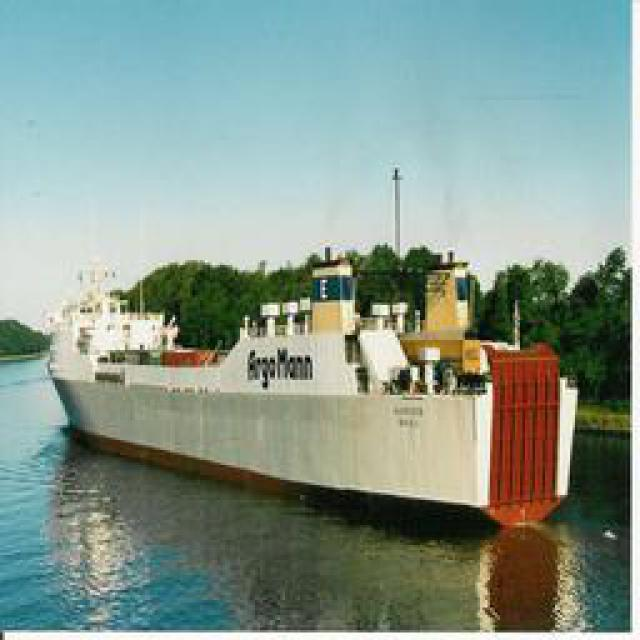Ship: (54, 245, 587, 528)
